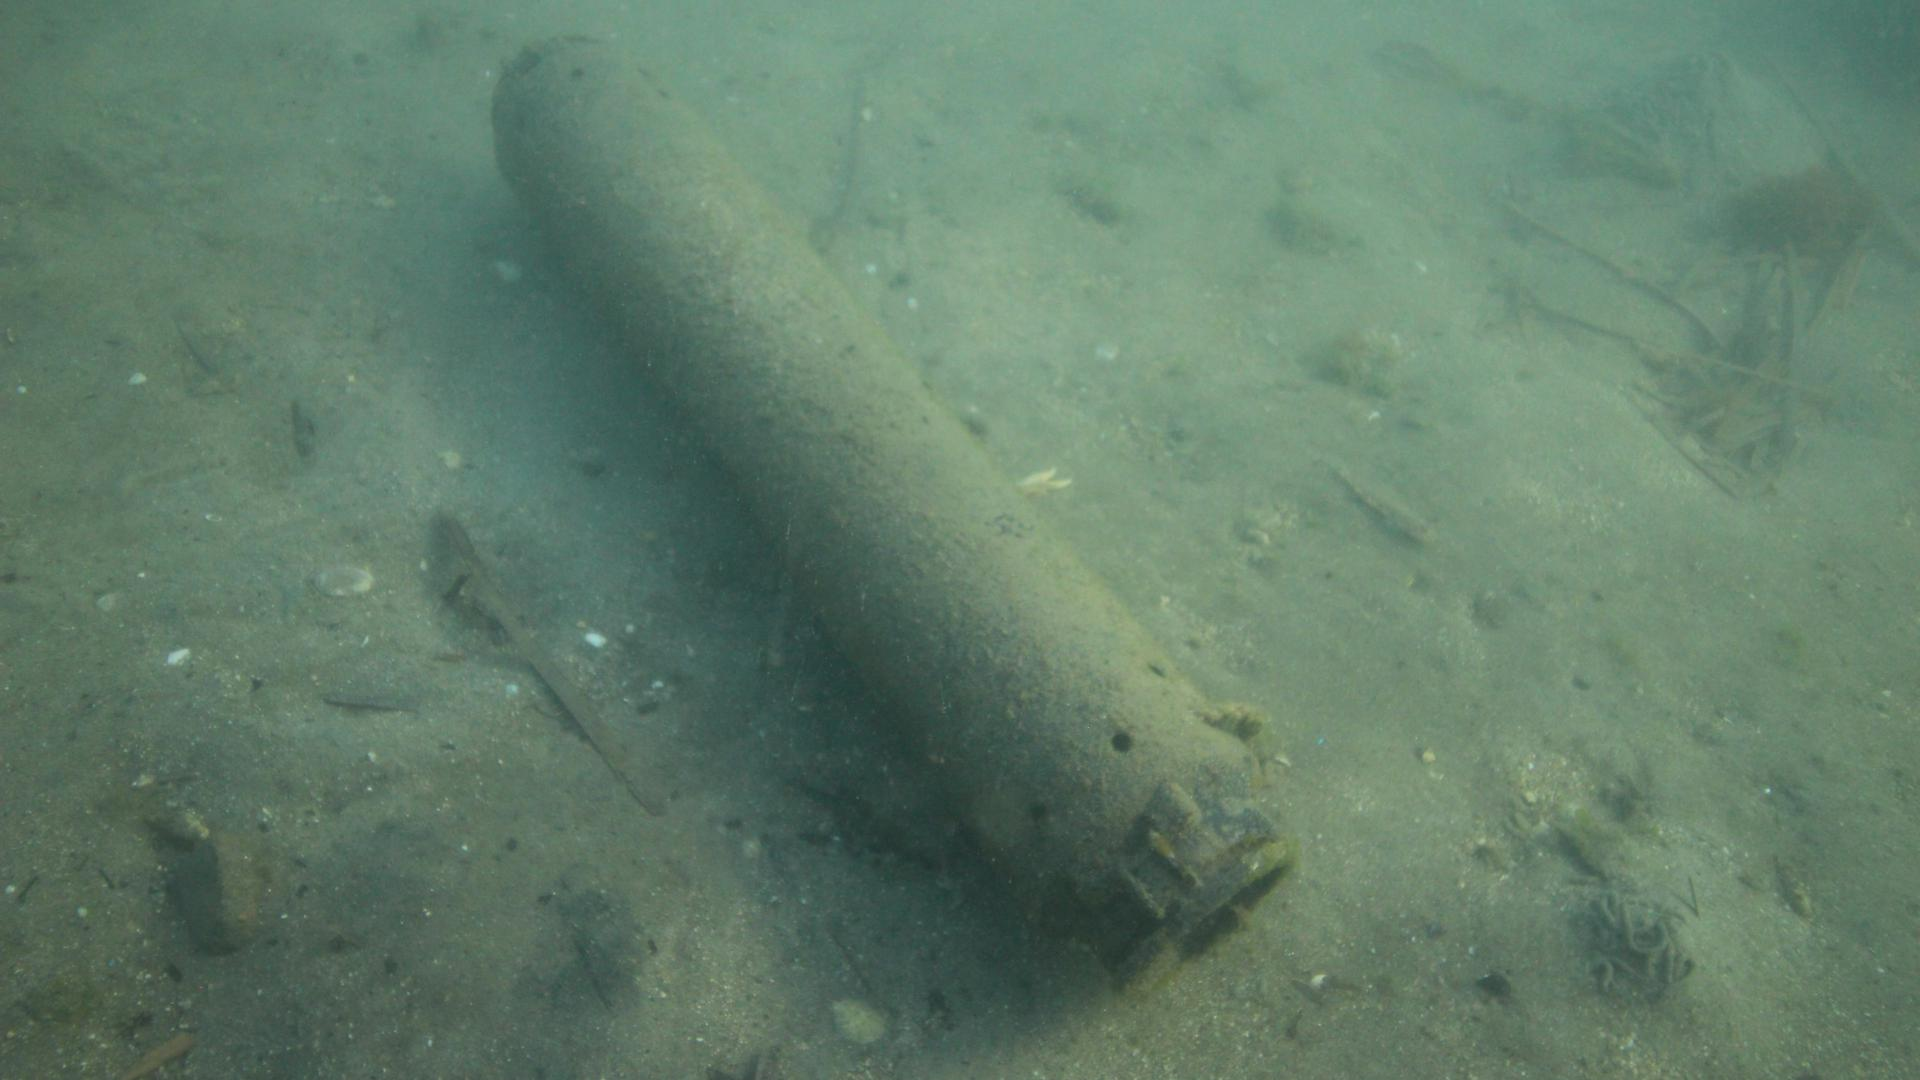eel fish trap: (492, 33, 1292, 1000)
